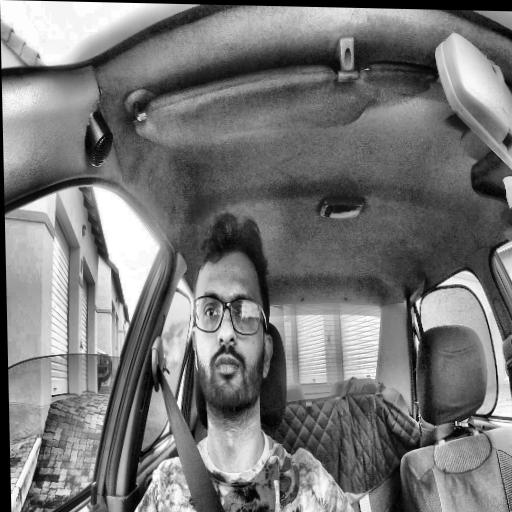awake: (188, 211, 275, 419)
